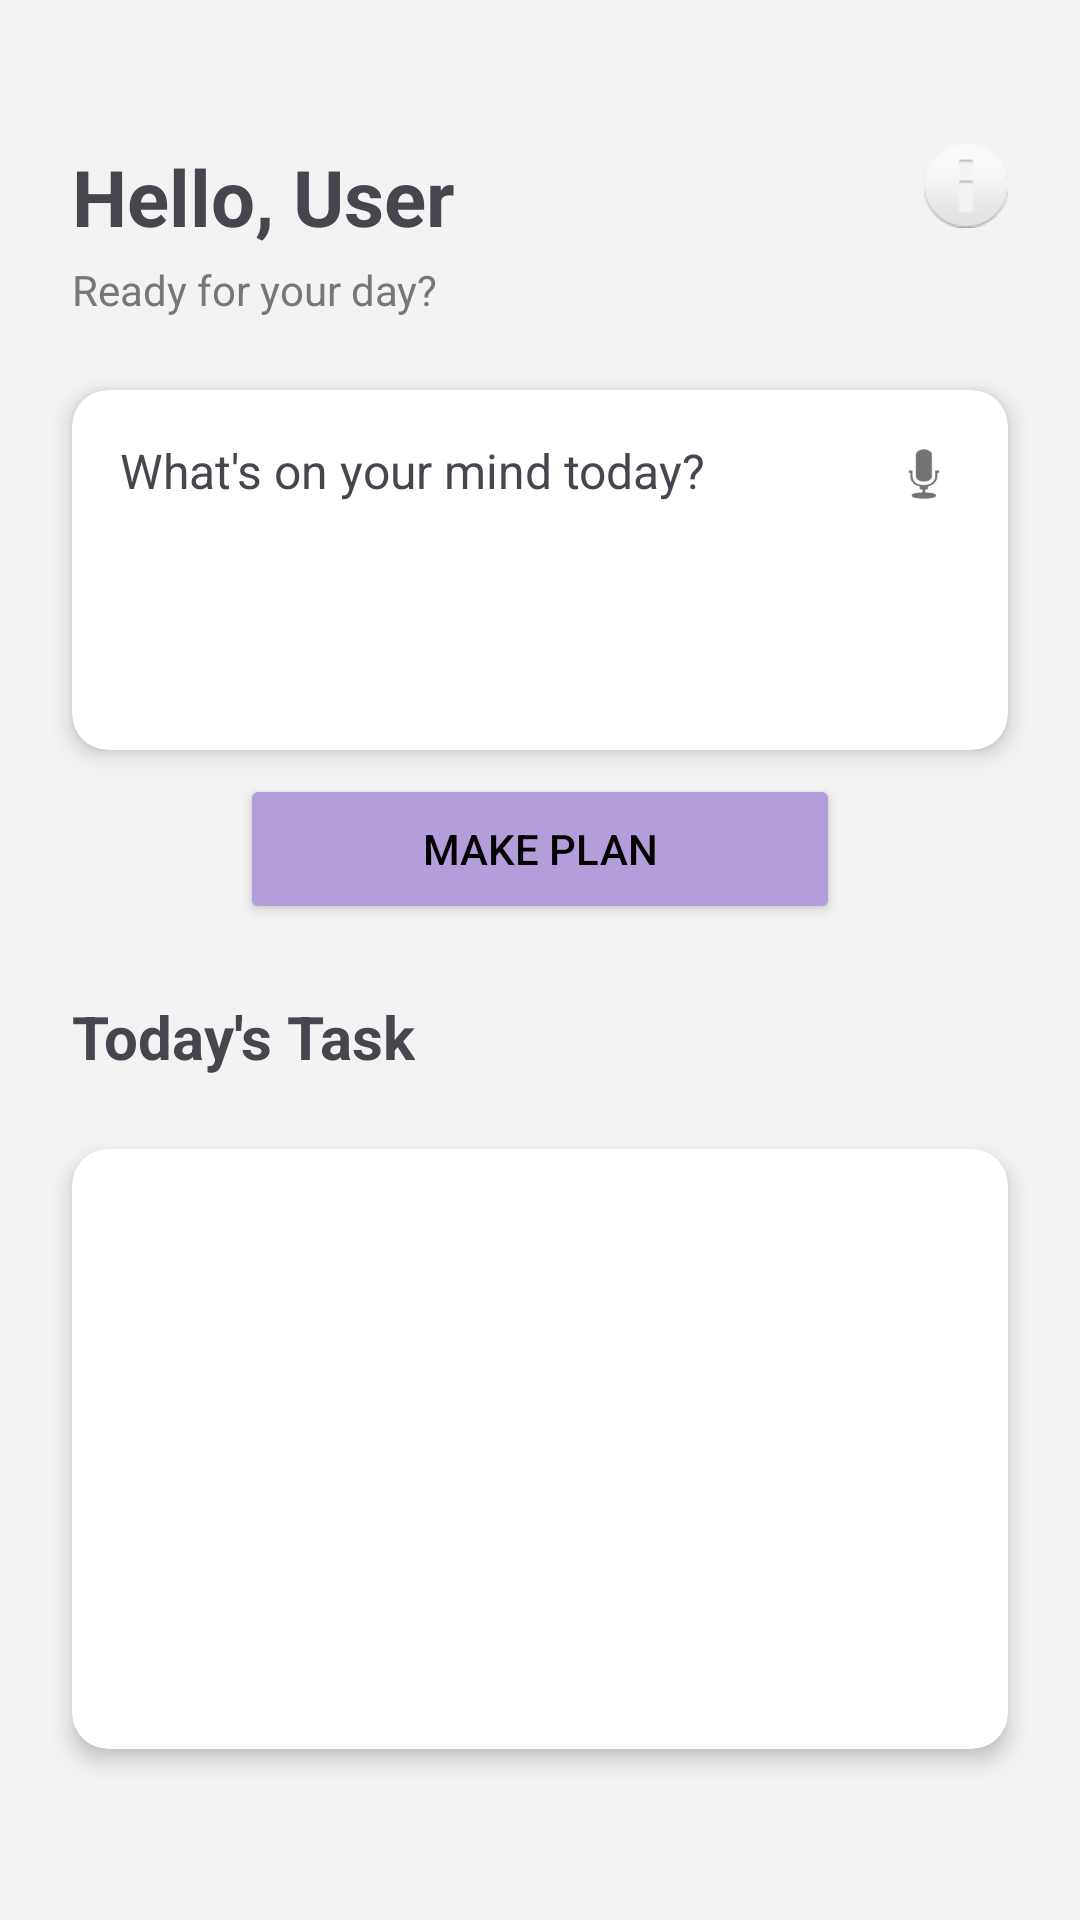

Icon bounding boxes for this 1080px×1920px phone screenshot, format (x1, y1, x2, y2):
info: (924, 160, 1008, 228)
speak now: (908, 449, 940, 499)
